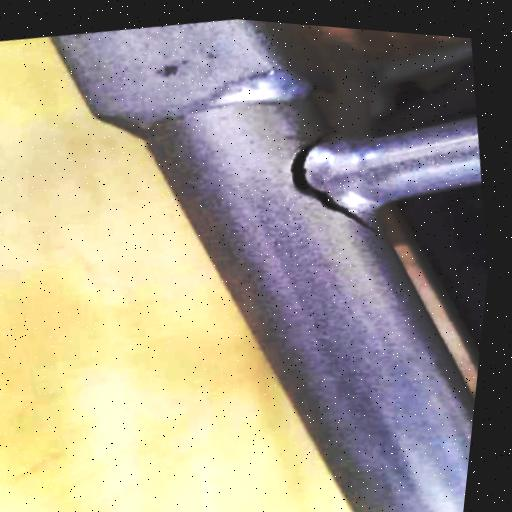crack: (262, 108, 409, 266)
